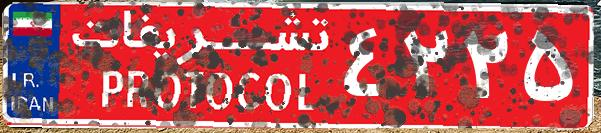2: (400, 20, 460, 115), (460, 20, 520, 115)
4: (340, 20, 400, 115)
5: (520, 20, 580, 115)
تشریفات: (60, 8, 340, 125)
